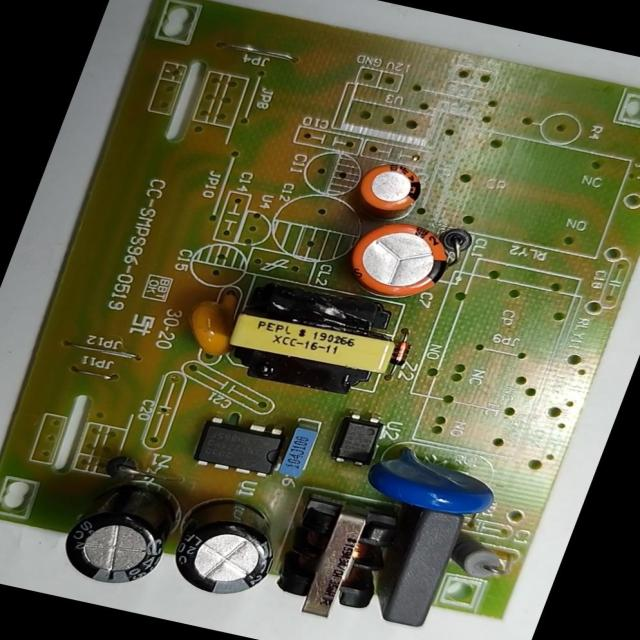Cap1: (342, 214, 458, 305)
Cap2: (351, 158, 429, 218)
Cap3: (160, 492, 291, 606)
Cap4: (51, 468, 190, 593)
MOSFET: (192, 414, 288, 481)
Mov: (360, 437, 511, 522)
Resistor: (446, 531, 514, 584)
Transformer: (212, 273, 405, 403), (264, 490, 412, 626)
